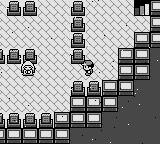main: (82, 60, 94, 76)
no-caminable: (1, 0, 160, 143), (70, 48, 160, 143), (69, 0, 86, 64), (1, 112, 54, 128), (1, 48, 38, 64), (70, 80, 102, 96), (6, 0, 38, 16)
npc: (21, 61, 36, 76)
puerta: (134, 0, 150, 17)
